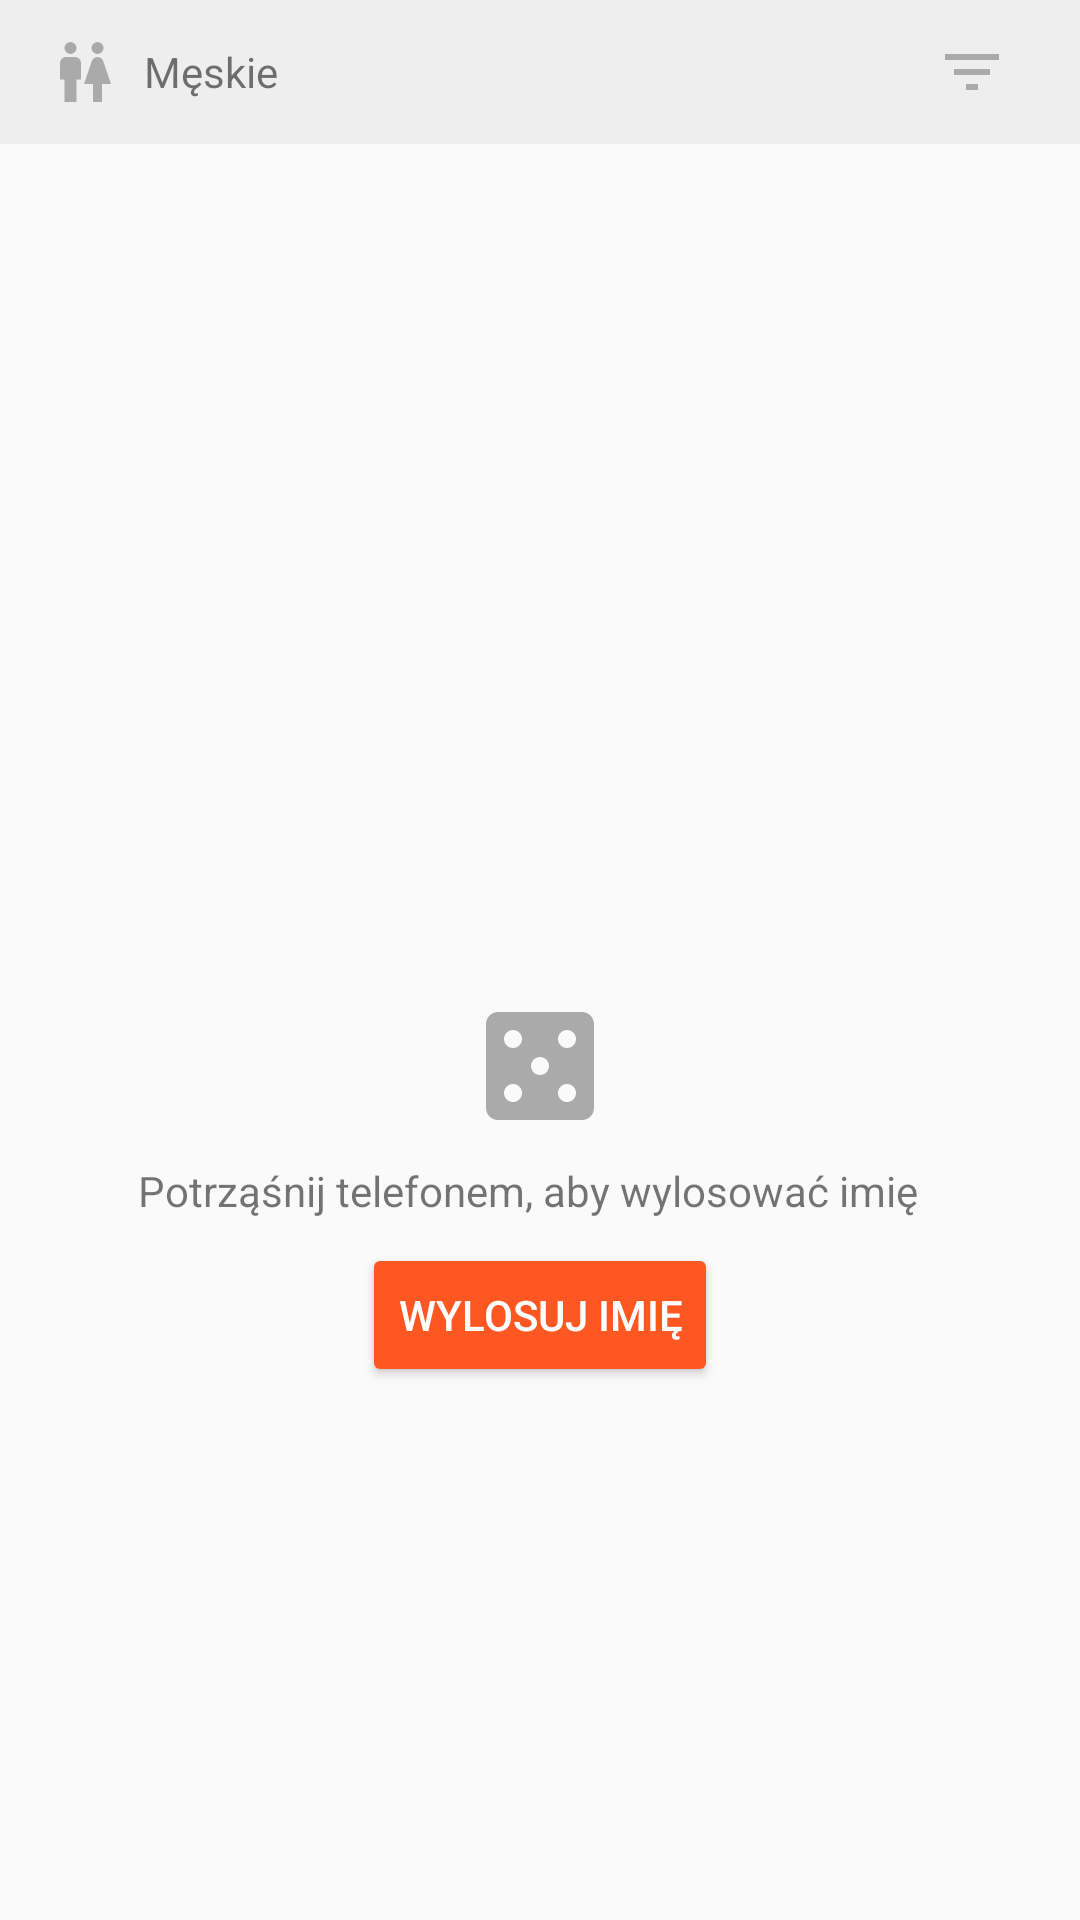

Icons on this 1080x1920 Android screen, each with its box as bbox=(x1, y1, x2, y2):
filter: bbox=(945, 54, 999, 90)
random: bbox=(486, 1012, 594, 1120)
